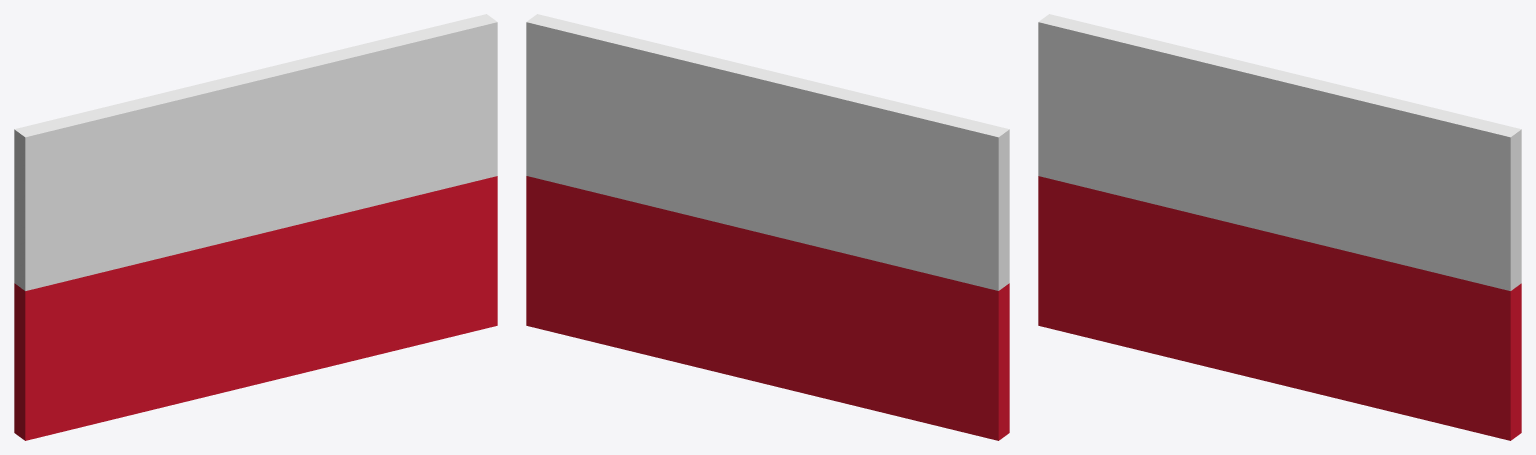
File: polonia.fbx
3 views of the same model, side by side, from view 1: azimuth 30°, elevation 25°; view 2: azimuth 150°, elevation 25°; view 3: azimuth 330°, elevation 25° (orthographic).
Visible parts, largest first — view 1: Cube.003, Cube.001; view 2: Cube.003, Cube.001; view 3: Cube.003, Cube.001.
Boxes of the visible parts, box(x1,y1,x2,y2) form: Cube.003: box(14, 14, 497, 290); Cube.001: box(14, 176, 497, 440); Cube.003: box(526, 14, 1009, 290); Cube.001: box(526, 176, 1009, 440); Cube.003: box(1038, 14, 1521, 290); Cube.001: box(1038, 176, 1521, 440).
Bounding box in the file's own units: 941 × 578 × 38.21.
